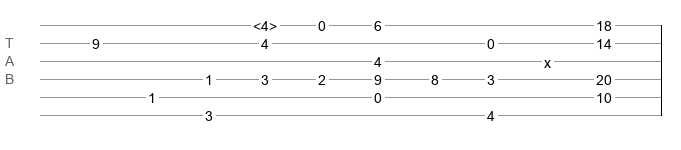0: (318, 18, 326, 28), (374, 90, 382, 100), (487, 36, 495, 46)
1: (148, 90, 156, 100), (205, 72, 213, 82)
10: (596, 90, 612, 100)
14: (596, 36, 612, 46)
18: (596, 18, 612, 28)
2: (318, 72, 326, 82)
20: (596, 72, 612, 82)
3: (205, 108, 213, 118), (261, 72, 269, 82), (487, 72, 495, 82)
4: (261, 36, 269, 46), (374, 54, 382, 64), (487, 108, 495, 118)
6: (374, 18, 382, 28)
8: (431, 72, 439, 82)
9: (92, 36, 100, 46), (374, 72, 382, 82)
harmonic: (253, 18, 277, 28)
x: (544, 55, 551, 63)
